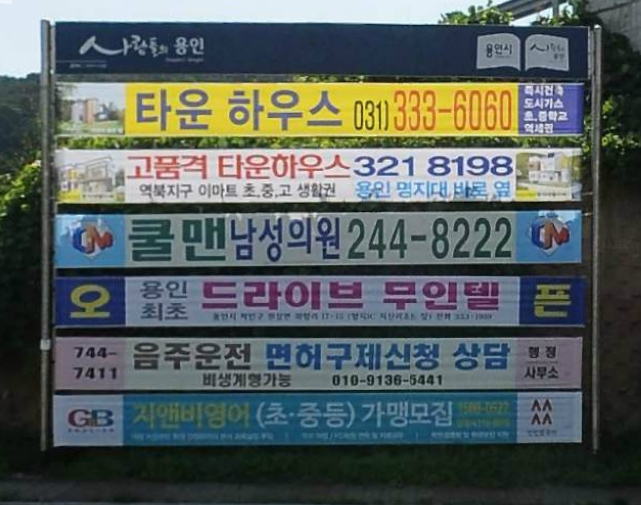banner: (23, 388, 613, 465), (29, 132, 601, 208), (31, 68, 608, 139), (21, 329, 621, 396), (30, 203, 609, 270), (28, 268, 606, 333)
